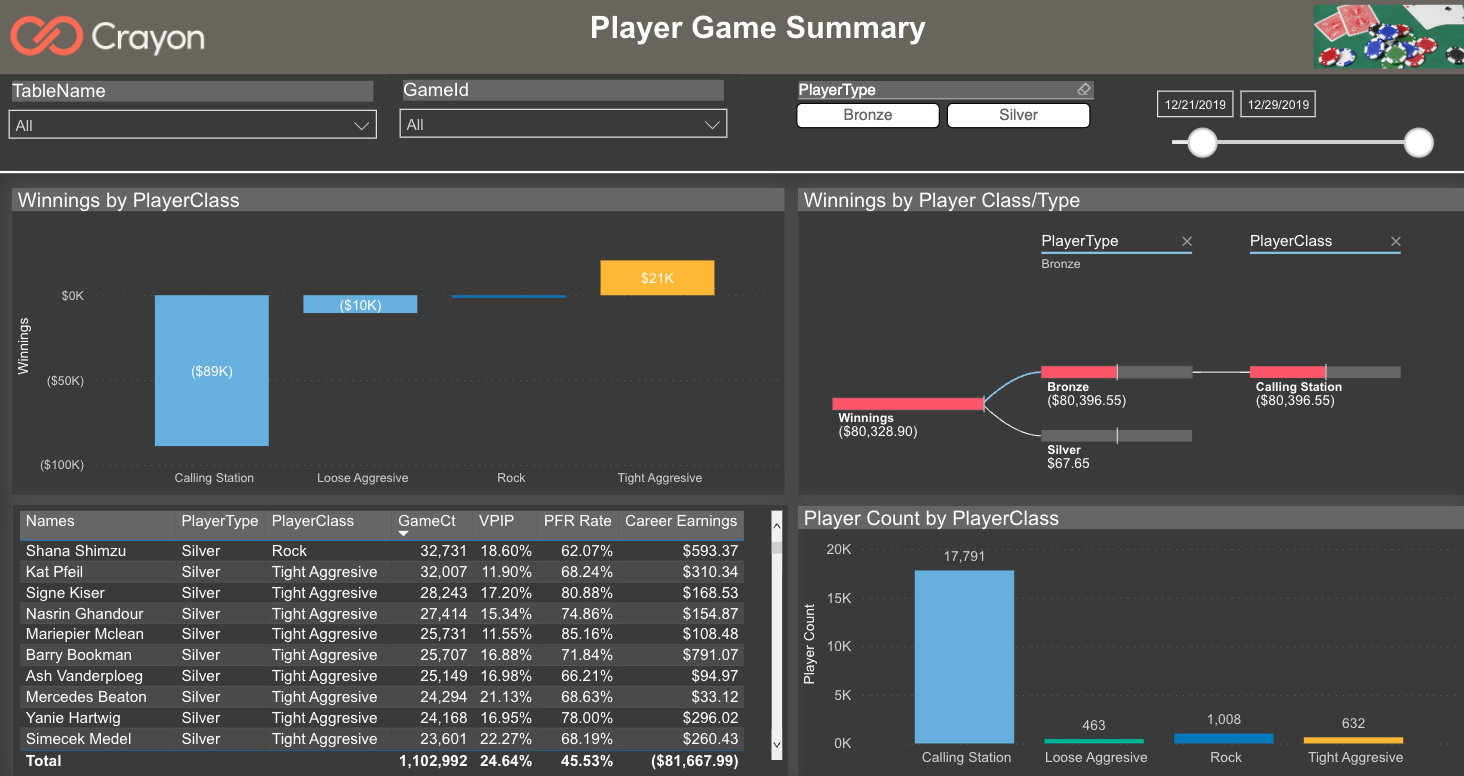

This screenshot's page, from the dashboard's own definition file:
{"tool":"powerbi","page":{"name":"Player Game Summary","canvas":[1280,720],"ordinal":1},"visuals":[{"type":"shape","box":[0,146.3,1278.8,7.1],"z":0},{"type":"textbox","box":[0,0,1280,65.4],"z":1000},{"type":"image","box":[1131.8,0,148.2,64.9],"z":2000},{"type":"image","box":[0,0,194.1,63.7],"z":3000},{"type":"ChicletSlicer1448559807354","fields":{"Category":["Players.PlayerType"]},"box":[682.3,65.8,270.1,78.9],"z":4000},{"type":"slicer","fields":{"Values":["Games.GameId"]},"box":[337.6,64.7,302.9,79.7],"z":5000},{"type":"slicer","fields":{"Values":["Games.TableName"]},"box":[0,65.6,337.6,78.8],"z":6000},{"type":"decompositionTreeVisual","title":"Winnings by Player Class/Type","fields":{"ExplainBy":["Players.PlayerClass","Players.PlayerType"],"Analyze":["Sum(PlayerGameSummary.Winnings)"]},"box":[691.1,162.8,575.6,265.1],"z":7000},{"type":"textbox","box":[0,685.7,1279,34],"z":8000},{"type":"columnChart","title":"Winnings by PlayerClass","fields":{"Category":["Players.PlayerClass"],"Y":["Sum(PlayerGameSummary.Winnings)"],"Series":["Players.PlayerClass"]},"box":[13.3,162.8,666.5,265.1],"z":9000},{"type":"clusteredColumnChart","title":"Player Count by PlayerClass","fields":{"Category":["Players.PlayerClass"],"Y":["Key Figures.Player Count"]},"box":[691.1,437.4,575.6,232.9],"z":10000},{"type":"tableEx","fields":{"Values":["Players.Names","Players.PlayerType","Players.PlayerClass","Key Figures.GameCt (Player Statistics)","Key Figures.VPIP (Player Statistics)","Key Figures.PFR Rate (Player Statistics)","Key Figures.Winnings (Player Statistics)"]},"box":[13.6,436.8,668.8,233.6],"z":11000},{"type":"slicer","fields":{"Values":["Dates.Date"]},"box":[988.8,69.2,259.5,71.9],"z":12000}]}

Visuals, with their boxes on the page's 1280x720 design canvas (x1, y1, x2, y2). These are canvas units, not pixel positions in the 1464x776 screenshot, which may show the page scaled, cropped or inside an application window:
shape: {"left": 0, "top": 146, "right": 1279, "bottom": 153}
textbox: {"left": 0, "top": 0, "right": 1280, "bottom": 65}
image: {"left": 1132, "top": 0, "right": 1280, "bottom": 65}
image: {"left": 0, "top": 0, "right": 194, "bottom": 64}
ChicletSlicer1448559807354 - Players.PlayerType: {"left": 682, "top": 66, "right": 952, "bottom": 145}
slicer - Games.GameId: {"left": 338, "top": 65, "right": 640, "bottom": 144}
slicer - Games.TableName: {"left": 0, "top": 66, "right": 338, "bottom": 144}
"Winnings by Player Class/Type" decompositionTreeVisual: {"left": 691, "top": 163, "right": 1267, "bottom": 428}
textbox: {"left": 0, "top": 686, "right": 1279, "bottom": 720}
"Winnings by PlayerClass" columnChart: {"left": 13, "top": 163, "right": 680, "bottom": 428}
"Player Count by PlayerClass" clusteredColumnChart: {"left": 691, "top": 437, "right": 1267, "bottom": 670}
tableEx - Players.Names x Players.PlayerType: {"left": 14, "top": 437, "right": 682, "bottom": 670}
slicer - Dates.Date: {"left": 989, "top": 69, "right": 1248, "bottom": 141}
